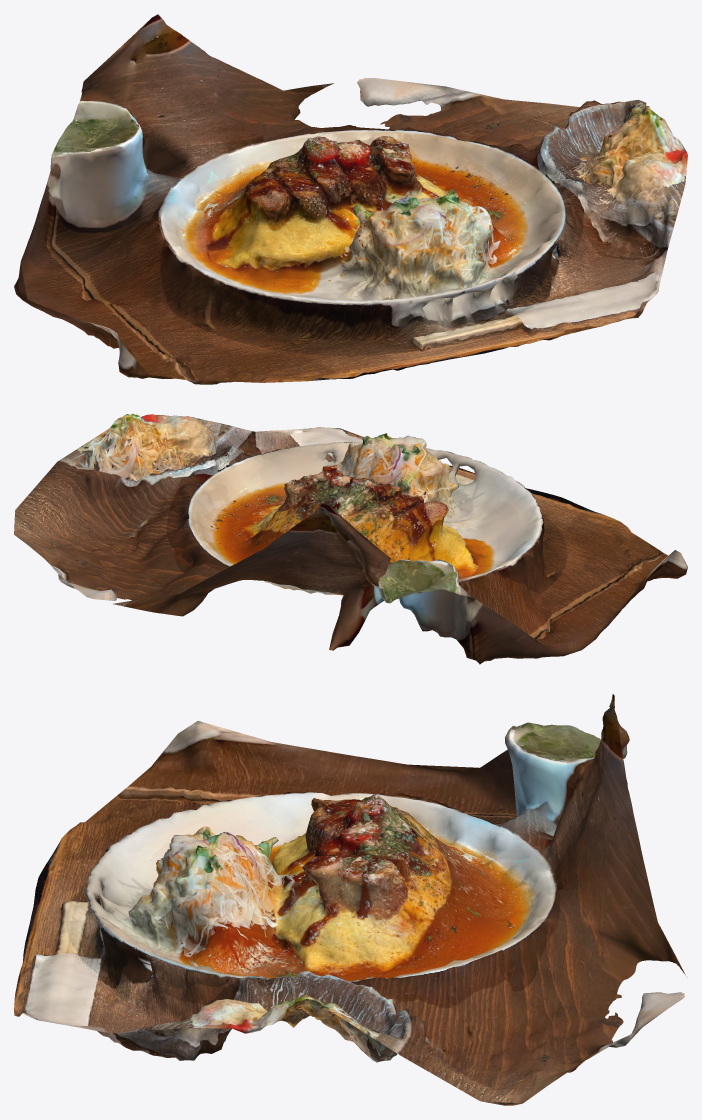
File: ktri-om.glb
3 renders of one model, top to bottom at view 1: azimuth 30°, elevation 25°; view 2: azimuth 150°, elevation 25°; view 3: azimuth 270°, elevation 25°, orthographic. The views are drawn at different scales.
Visible parts, largest first — view 1: baked_mesh; view 2: baked_mesh; view 3: baked_mesh.
Boxes of the visible parts, x1,y1,x2,y2 form: baked_mesh: (14, 14, 687, 384); baked_mesh: (14, 413, 687, 664); baked_mesh: (14, 694, 686, 1105).
Size of the model in its own units: 16.95 by 4.78 by 13.42.
Materials: 1 (1 with a texture image).
